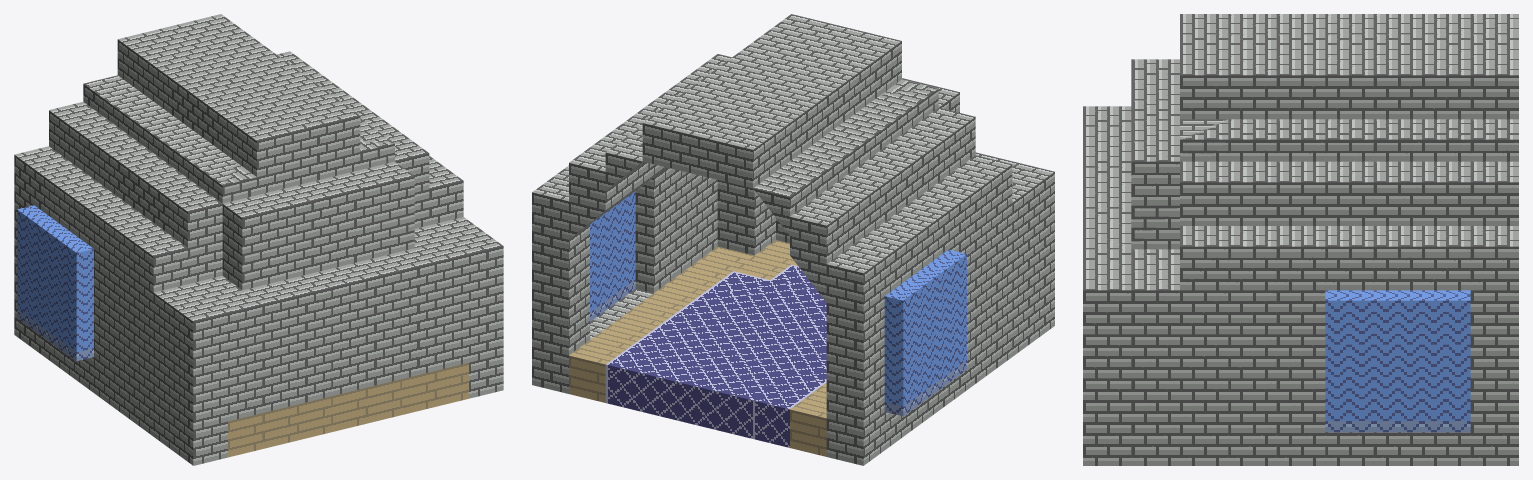
The model's file is corridor deadend E.fbx.
3 views of the same model, side by side, from view 1: azimuth 30°, elevation 25°; view 2: azimuth 150°, elevation 25°; view 3: azimuth 270°, elevation 25° (orthographic). The views are drawn at different scales.
Parts seen in each view (by area): view 1: corridor deadend E; view 2: corridor deadend E; view 3: corridor deadend E.
Part boxes in pixels (x1,y1,x2,y2): corridor deadend E: (14,14,503,465); corridor deadend E: (532,14,1054,465); corridor deadend E: (1083,14,1518,465).
Size of the model in its own units: 10 by 7.5 by 9.
Materials: 1 (1 with a texture image).
